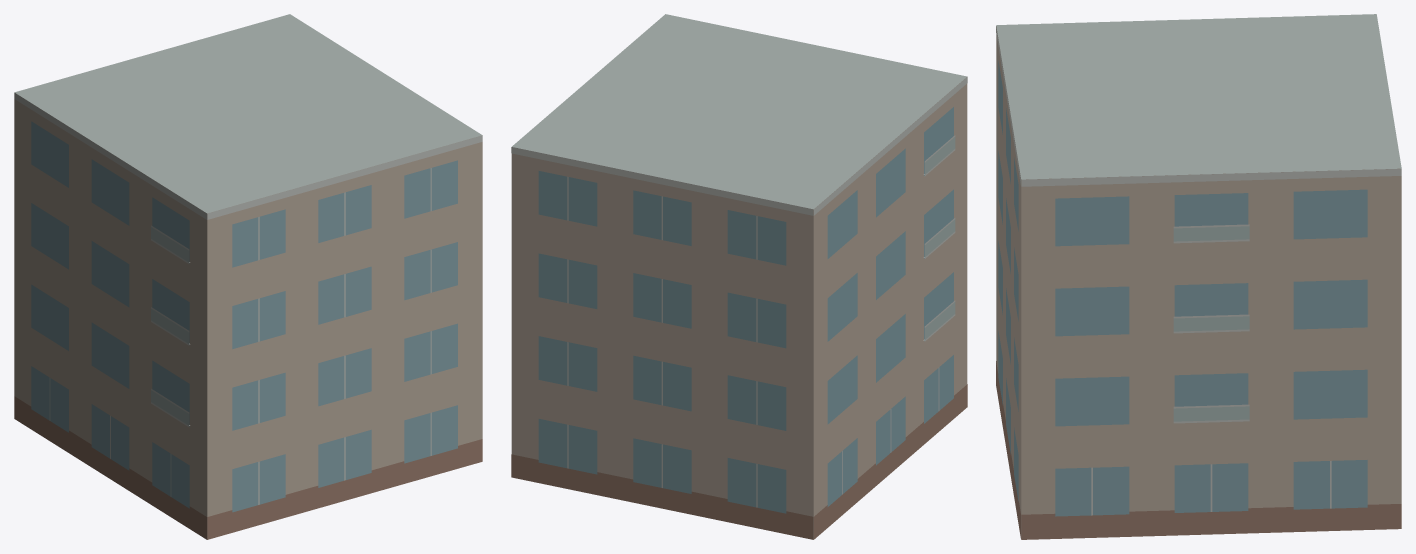
Rendered from residential-877d3c45-b315-4029-9ed7-2ea7f814b158.glb.
The picture shows the model from 3 angles, left to right: view 1: azimuth 30°, elevation 25°; view 2: azimuth 150°, elevation 25°; view 3: azimuth 270°, elevation 25°; orthographic projection. The views are drawn at different scales.
Visible parts, largest first — view 1: residential-877d3c45-b315-4029-9ed7-2ea7f814b158.tmp; view 2: residential-877d3c45-b315-4029-9ed7-2ea7f814b158.tmp; view 3: residential-877d3c45-b315-4029-9ed7-2ea7f814b158.tmp.
Boxes of the visible parts, x1,y1,x2,y2 form: residential-877d3c45-b315-4029-9ed7-2ea7f814b158.tmp: (14,14,482,539); residential-877d3c45-b315-4029-9ed7-2ea7f814b158.tmp: (511,14,967,539); residential-877d3c45-b315-4029-9ed7-2ea7f814b158.tmp: (996,14,1401,539).
Bounding box in the file's own units: 12.03 × 12.2 × 12.46.
